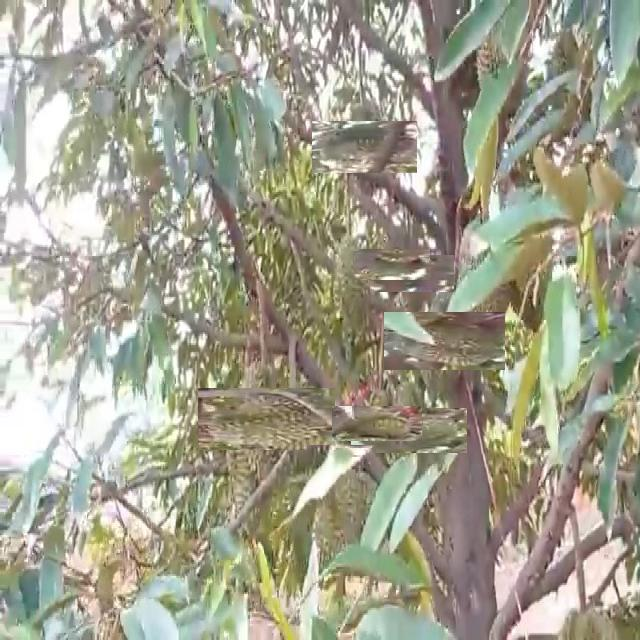durian: (217, 369, 317, 469), (307, 445, 376, 571), (400, 296, 490, 386), (368, 390, 449, 471), (325, 108, 404, 186), (330, 234, 378, 342), (346, 391, 408, 455), (381, 242, 443, 304), (366, 237, 420, 292)
